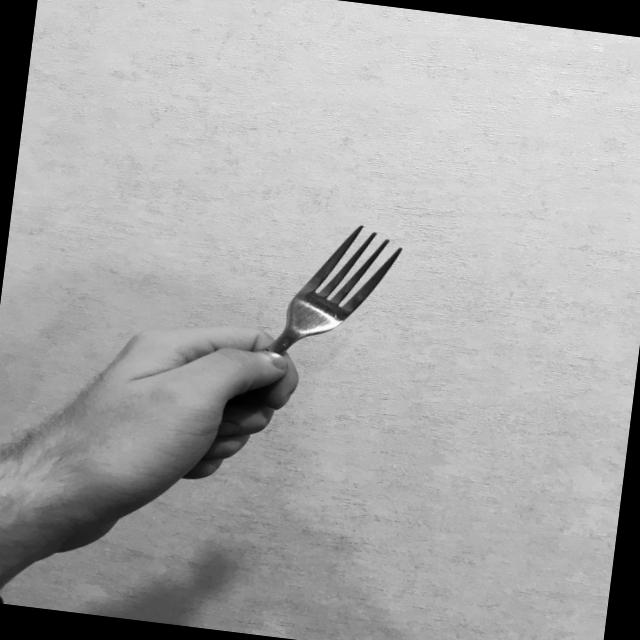fork: (190, 204, 406, 490)
